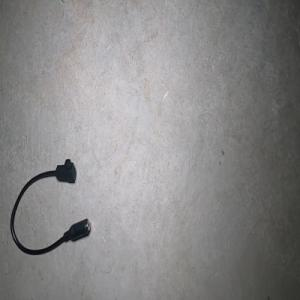Wire: (10, 158, 90, 255)
